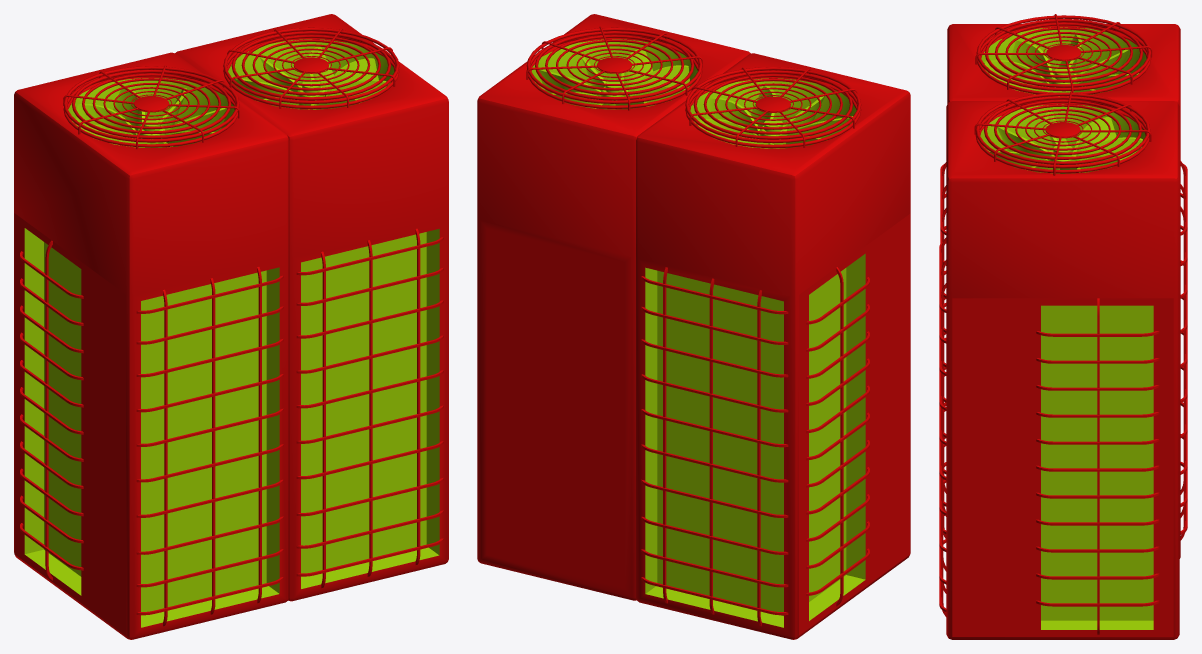
3 renders of one model, left to right at view 1: azimuth 30°, elevation 25°; view 2: azimuth 150°, elevation 25°; view 3: azimuth 270°, elevation 25°, orthographic.
Visible parts, largest first — view 1: OU_90; view 2: OU_90; view 3: OU_90.
Boxes of the visible parts, x1,y1,x2,y2 form: OU_90: (14,14,448,639); OU_90: (477,14,910,639); OU_90: (939,14,1187,639).
Size of the model in its own units: 49.89 by 67.79 by 32.02.
